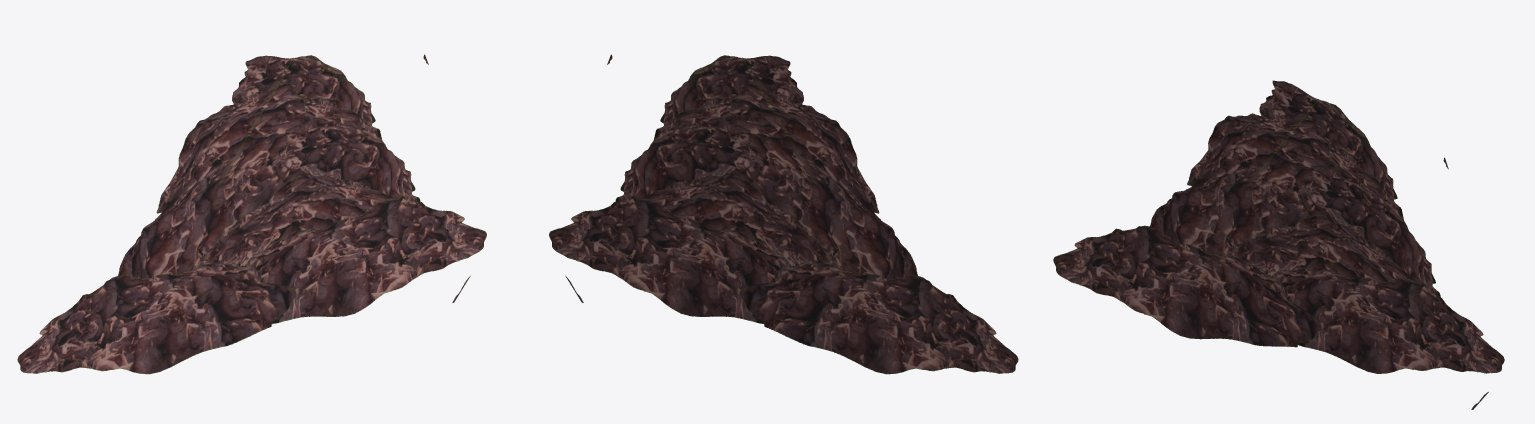
File: distant_pig_pile_4.fbx
The picture shows the model from 3 angles, left to right: view 1: azimuth 30°, elevation 25°; view 2: azimuth 150°, elevation 25°; view 3: azimuth 330°, elevation 25°; orthographic projection. The views are drawn at different scales.
Parts seen in each view (by area): view 1: distant_pig_pile_04; view 2: distant_pig_pile_04; view 3: distant_pig_pile_04.
Boxes of the visible parts, bbox=[...] form: distant_pig_pile_04: bbox=[17, 54, 486, 374]; distant_pig_pile_04: bbox=[549, 54, 1018, 374]; distant_pig_pile_04: bbox=[1053, 80, 1504, 409].
Bounding box in the file's own units: 1149 × 684 × 0.000299.
